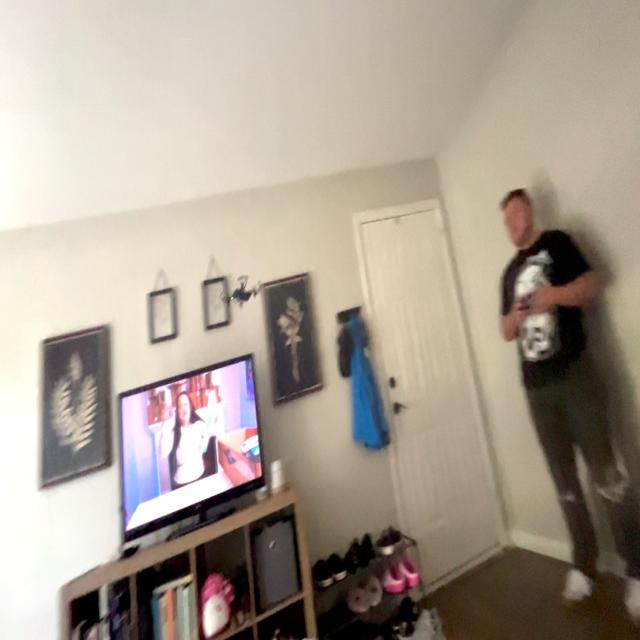drone: (217, 253, 273, 326)
